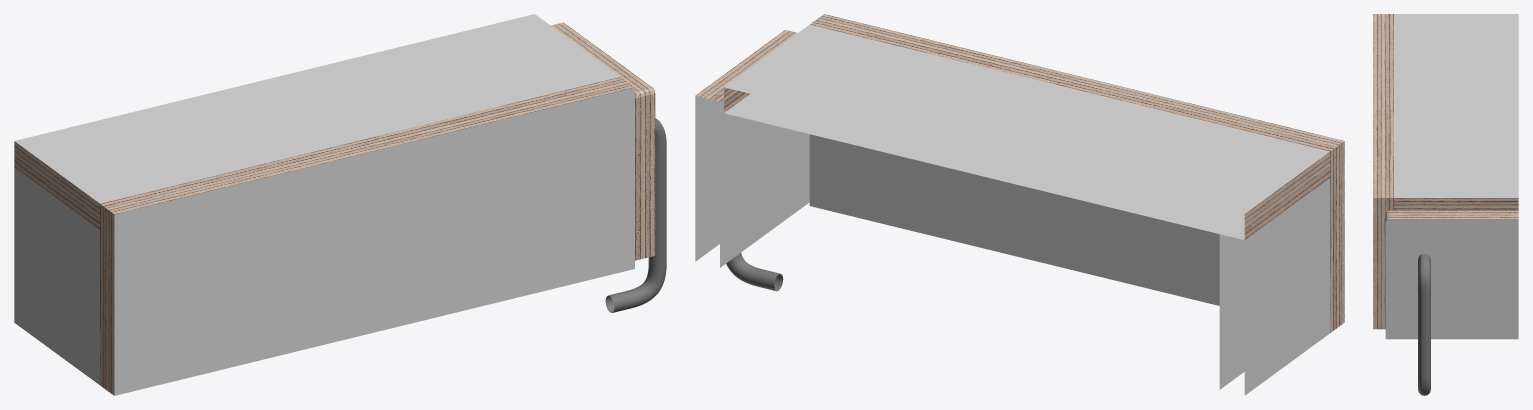
The model's file is Handle Variants2.fbx.
3 renders of one model, left to right at view 1: azimuth 30°, elevation 25°; view 2: azimuth 150°, elevation 25°; view 3: azimuth 270°, elevation 25°, orthographic. The views are drawn at different scales.
Visible parts, largest first — view 1: Swing Drawer TL.004, Swing Drawer TL.005; view 2: Swing Drawer TL.004, Swing Drawer TL.005; view 3: Swing Drawer TL.004, Swing Drawer TL.005.
Boxes of the visible parts, left/top/right/bottom form: Swing Drawer TL.004: left=14, top=14, right=655, bottom=395; Swing Drawer TL.005: left=605, top=118, right=666, bottom=312; Swing Drawer TL.004: left=695, top=14, right=1344, bottom=395; Swing Drawer TL.005: left=695, top=95, right=1244, bottom=291; Swing Drawer TL.004: left=1373, top=14, right=1518, bottom=339; Swing Drawer TL.005: left=1385, top=219, right=1518, bottom=395.
Bounding box in the file's own units: 45.05 × 18.6 × 13.33.
